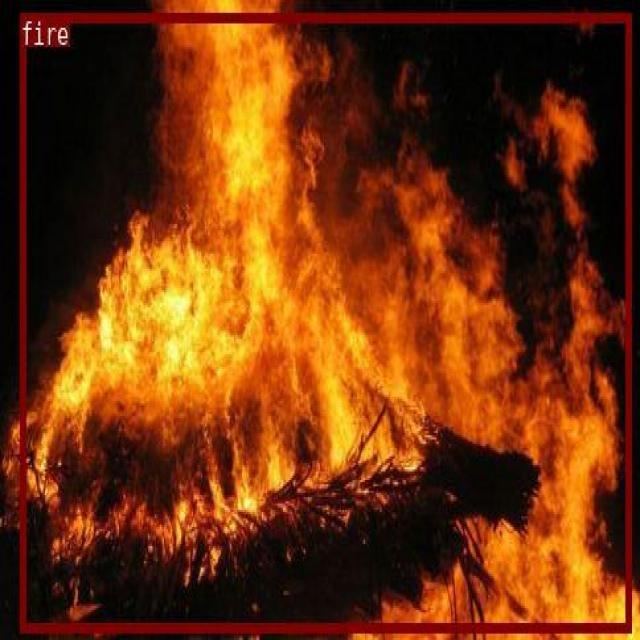fire: (19, 11, 630, 631)
